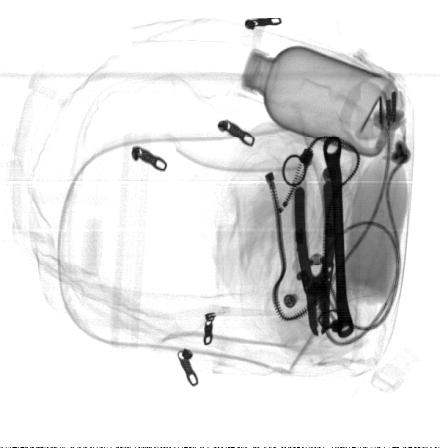Pliers: (291, 172, 337, 333)
Wrench: (322, 135, 356, 340)
